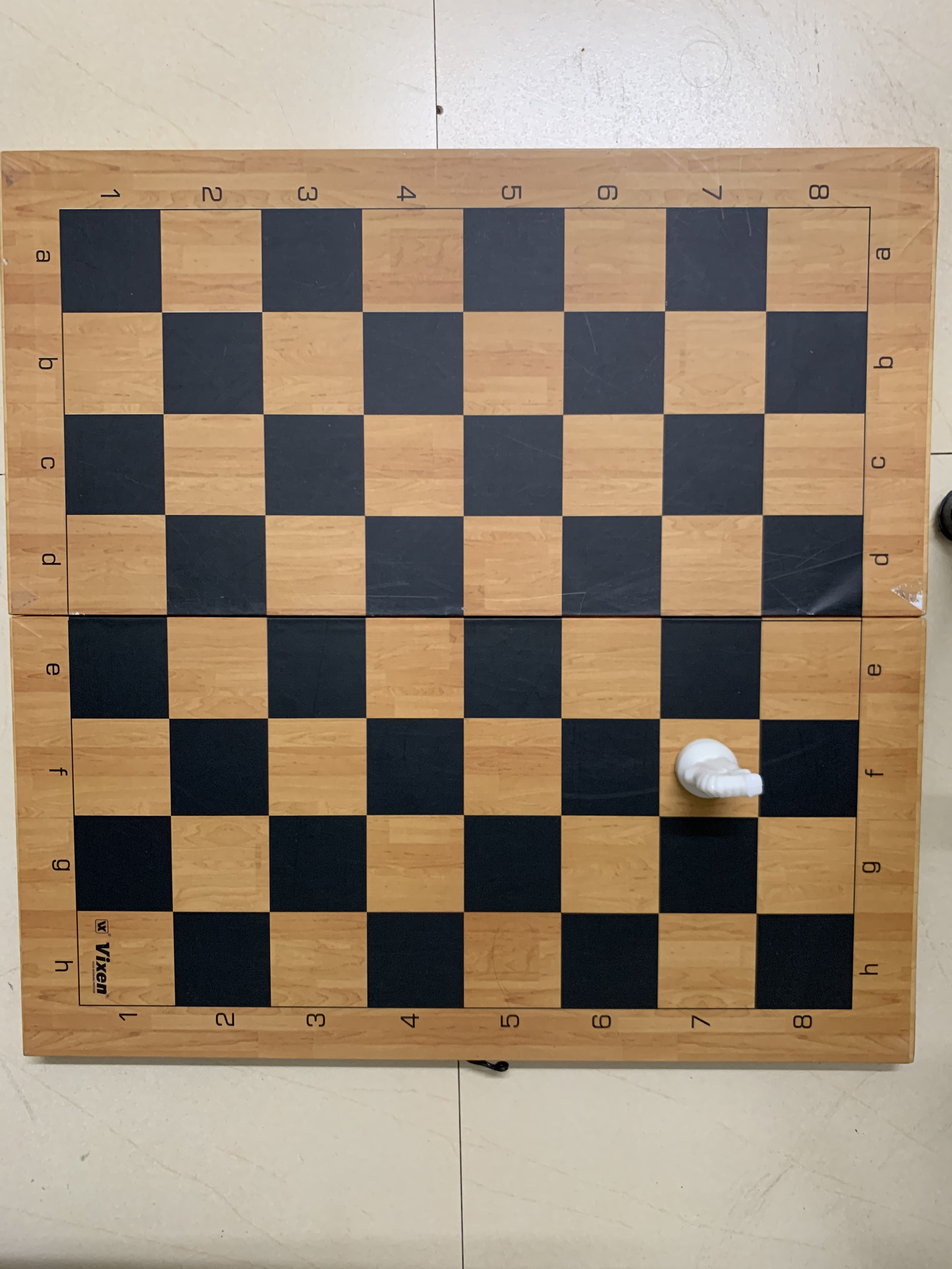white_knight: (660, 719, 764, 815)
